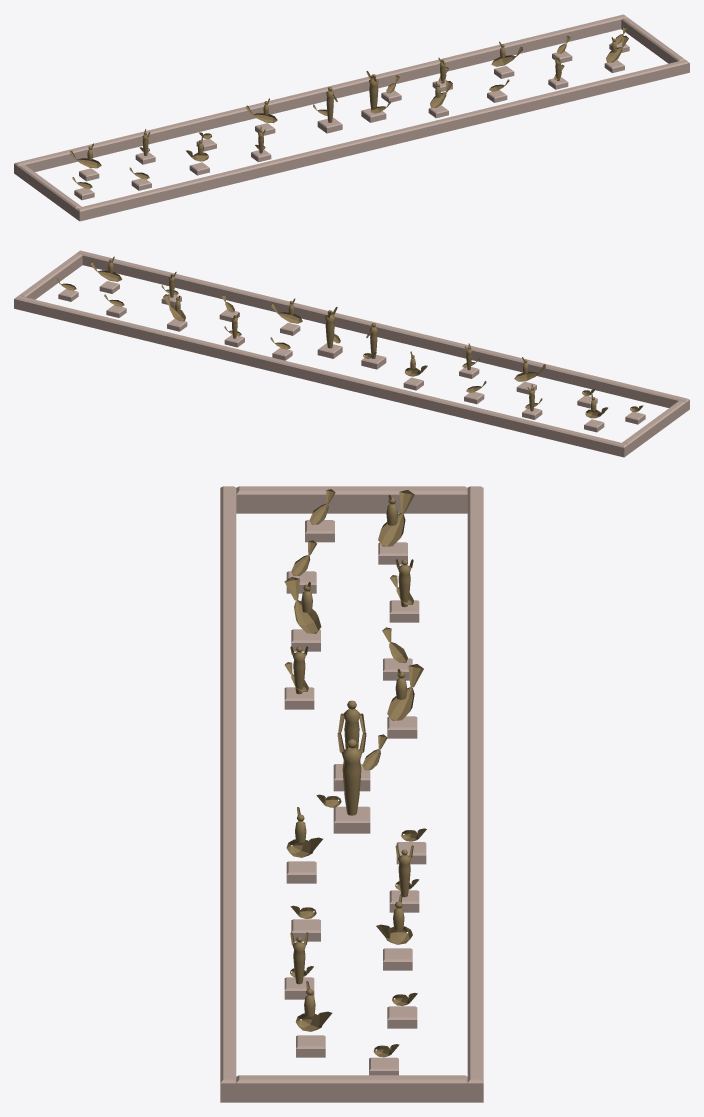
File: stl-meeting-of-the-waters.glb
3 views of the same model, one above another, from view 1: azimuth 30°, elevation 25°; view 2: azimuth 150°, elevation 25°; view 3: azimuth 270°, elevation 25° (orthographic). The views are drawn at different scales.
Visible parts, largest first — view 1: Meeting of the Waters; view 2: Meeting of the Waters; view 3: Meeting of the Waters.
Part boxes in pixels (x1=…): Meeting of the Waters: x1=14, y1=14, x2=689, y2=221; Meeting of the Waters: x1=14, y1=250, x2=689, y2=457; Meeting of the Waters: x1=220, y1=486, x2=483, y2=1102.
Size of the model in its own units: 61.6 by 4.37 by 11.5.
